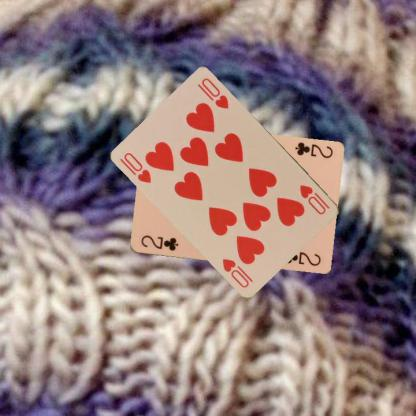10h: (298, 182, 332, 216), (121, 150, 153, 185)
2c: (138, 232, 180, 252), (292, 140, 334, 160)
